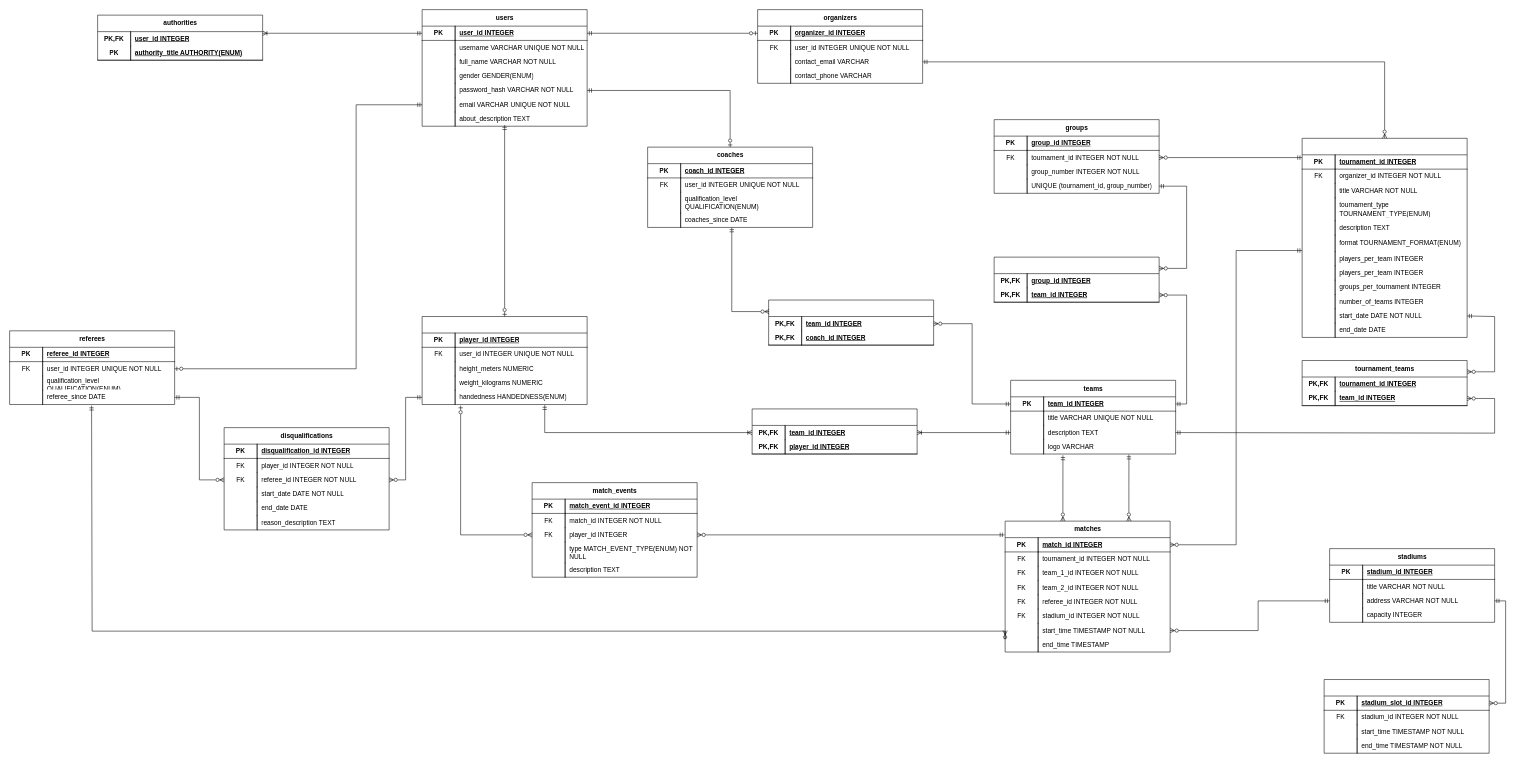
Some shapes in this 1520 by 763 pixel diagram are drawn without their labels. The box of each missing label's shape, as (x1, y1, x2, y2) in pixels:
group_teams: (994, 257, 1159, 302)
players: (422, 316, 587, 405)
stadium_slots: (1324, 679, 1489, 753)
team_coaches: (768, 299, 934, 345)
team_players: (752, 408, 917, 454)
tournaments: (1302, 138, 1467, 337)
